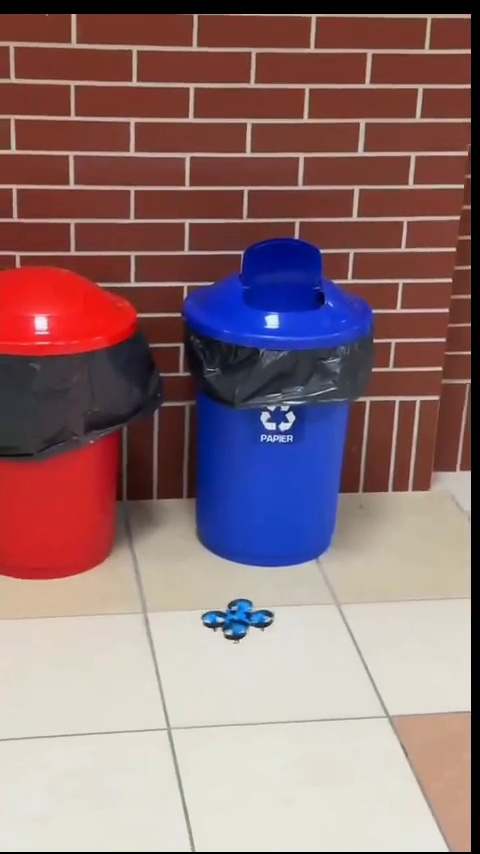drone: (199, 598, 277, 642)
